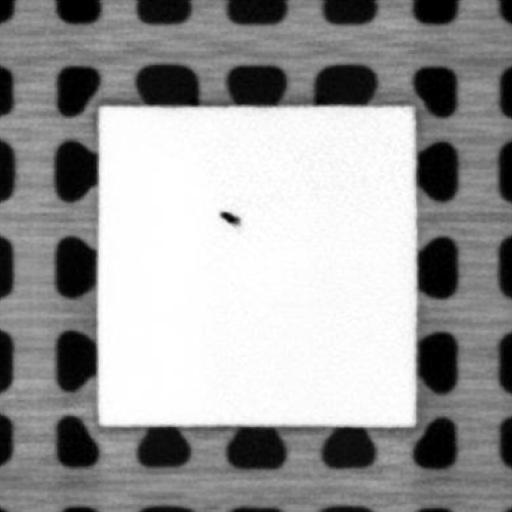DIE_INK: (216, 207, 242, 223)
